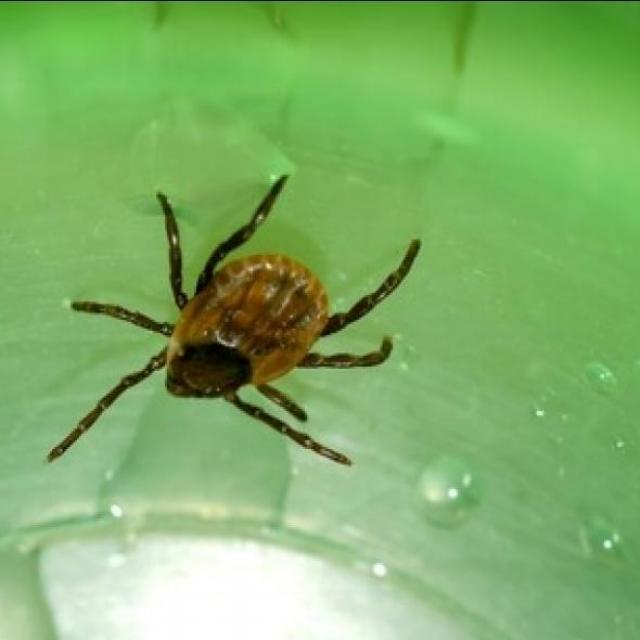Rhipicephalus Sanguineus-F: (50, 176, 422, 466)
